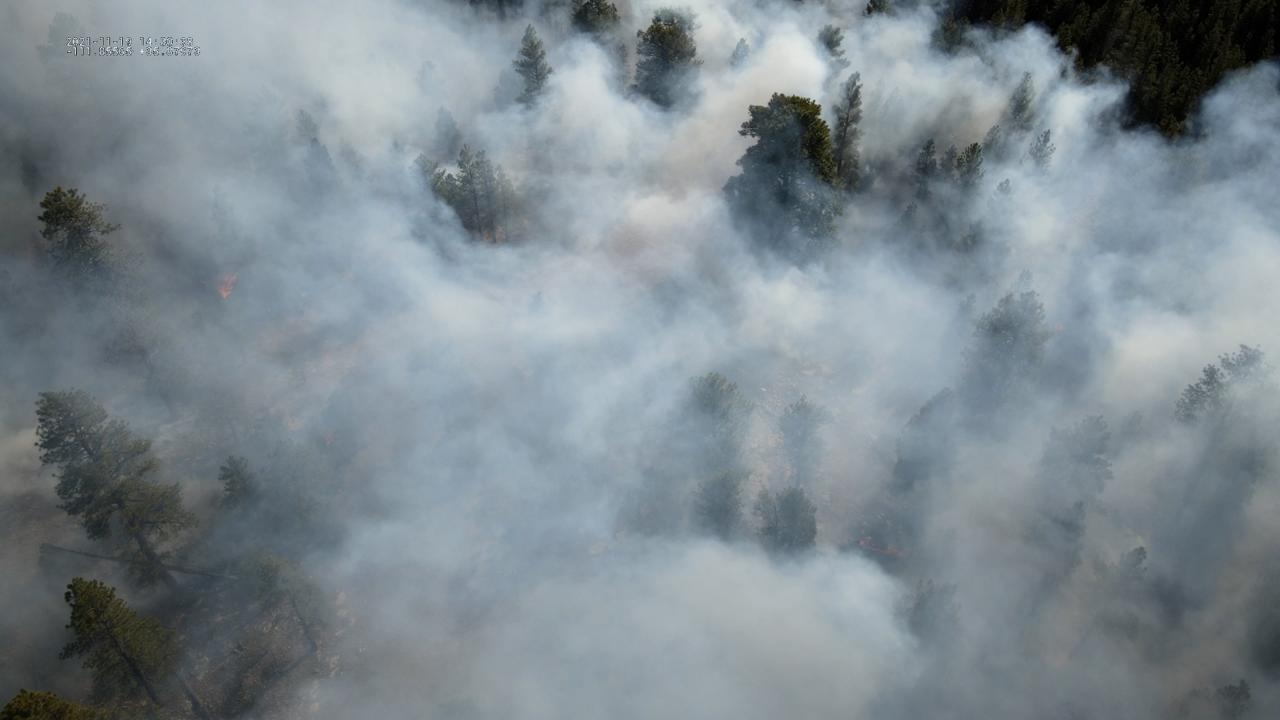fire: (216, 269, 239, 300)
smoke: (0, 0, 1280, 720)
